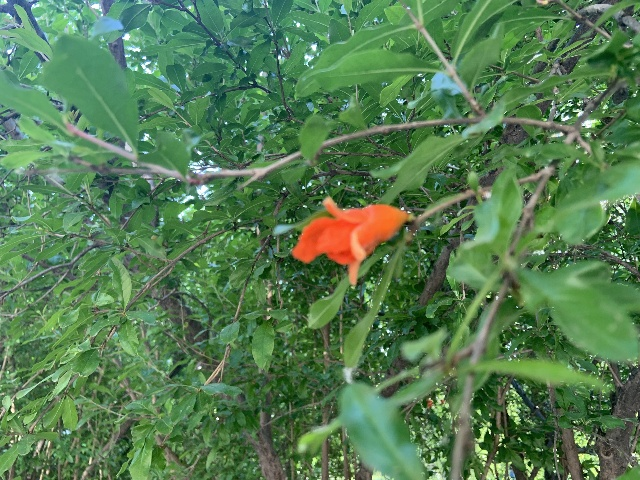flower: (291, 196, 407, 284)
